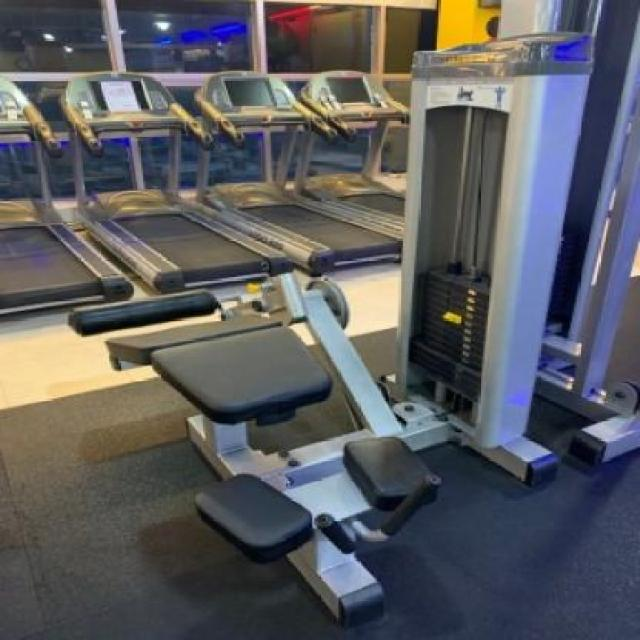reg curl machine: (60, 27, 600, 636)
